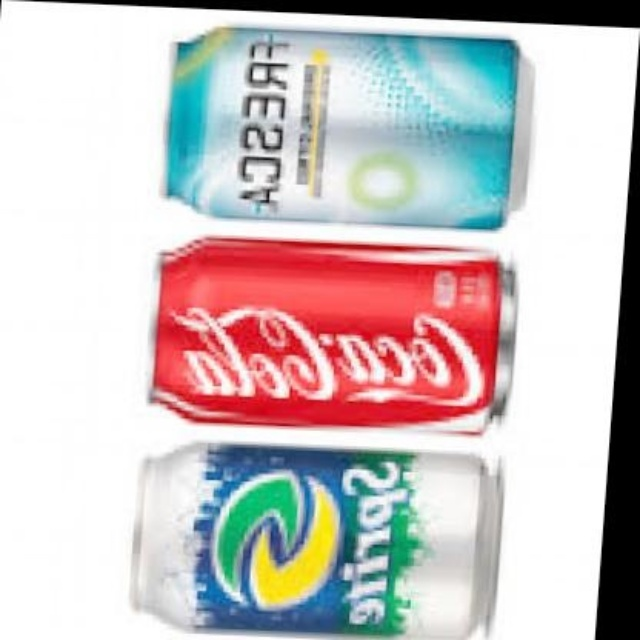trash: (134, 443, 500, 638), (151, 237, 514, 431), (168, 28, 515, 226)
